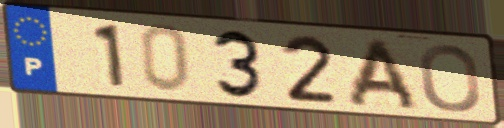0: (137, 22, 193, 96)
1: (91, 22, 127, 89)
2: (277, 32, 340, 106)
3: (210, 28, 263, 100)
A: (344, 36, 423, 112)
O: (416, 42, 484, 114)
